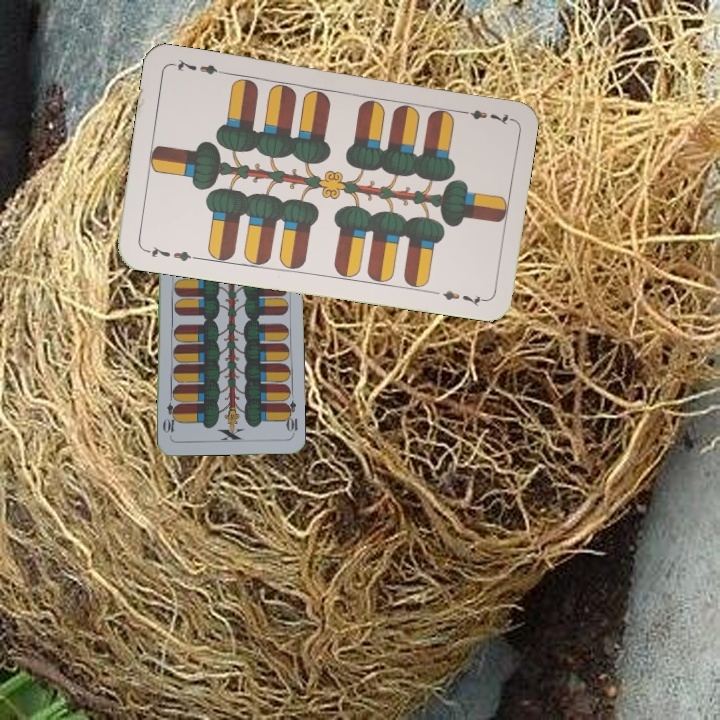E10: (281, 397, 300, 438)
E7: (454, 105, 513, 128), (140, 242, 199, 264)
